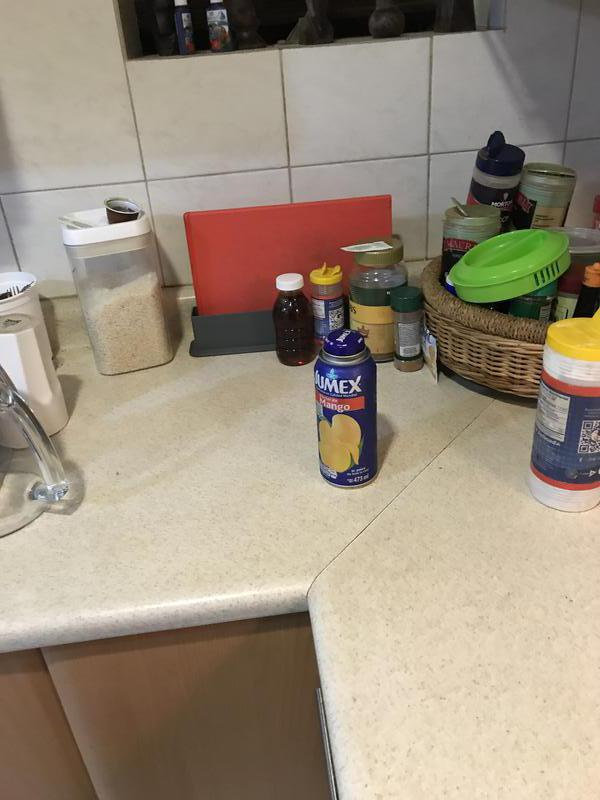jugo_jumex: (311, 330, 380, 488)
